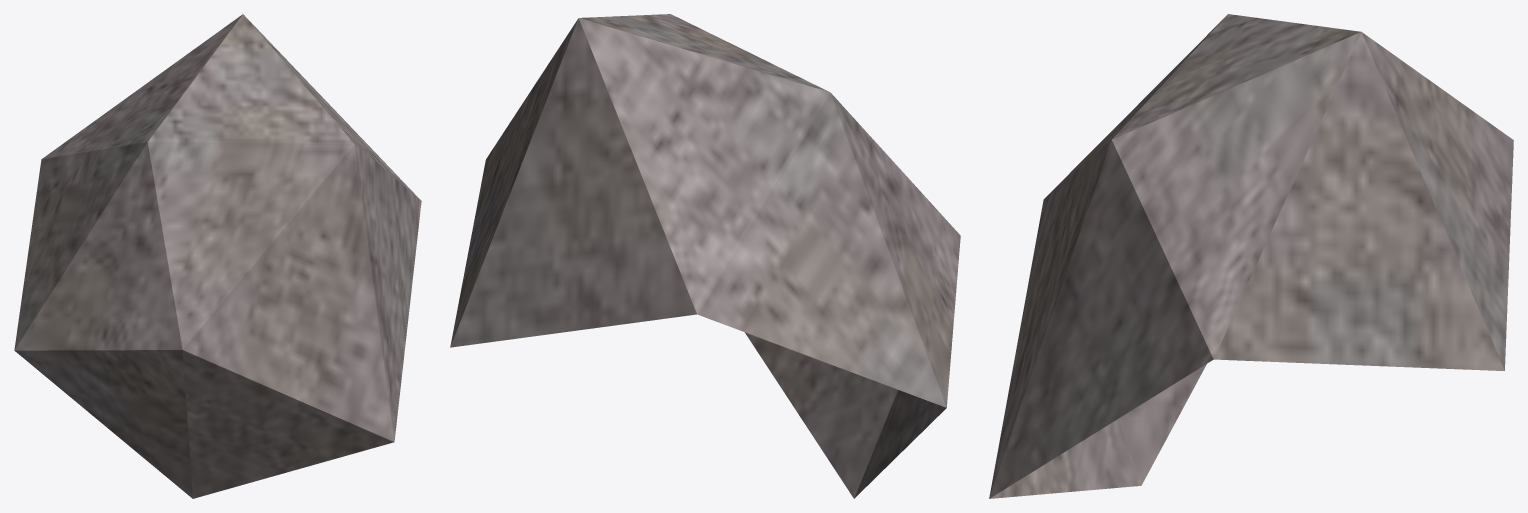
The model's file is beach-_Boulder.fbx.
3 views of the same model, side by side, from view 1: azimuth 30°, elevation 25°; view 2: azimuth 150°, elevation 25°; view 3: azimuth 270°, elevation 25° (orthographic). The views are drawn at different scales.
Visible parts, largest first — view 1: boulder; view 2: boulder; view 3: boulder.
Boxes of the visible parts, x1,y1,x2,y2 form: boulder: (14, 14, 421, 498); boulder: (450, 14, 960, 498); boulder: (989, 14, 1513, 498).
Bounding box in the file's own units: 1.95 × 1.7 × 1.93.
Materials: 1 (1 with a texture image).
